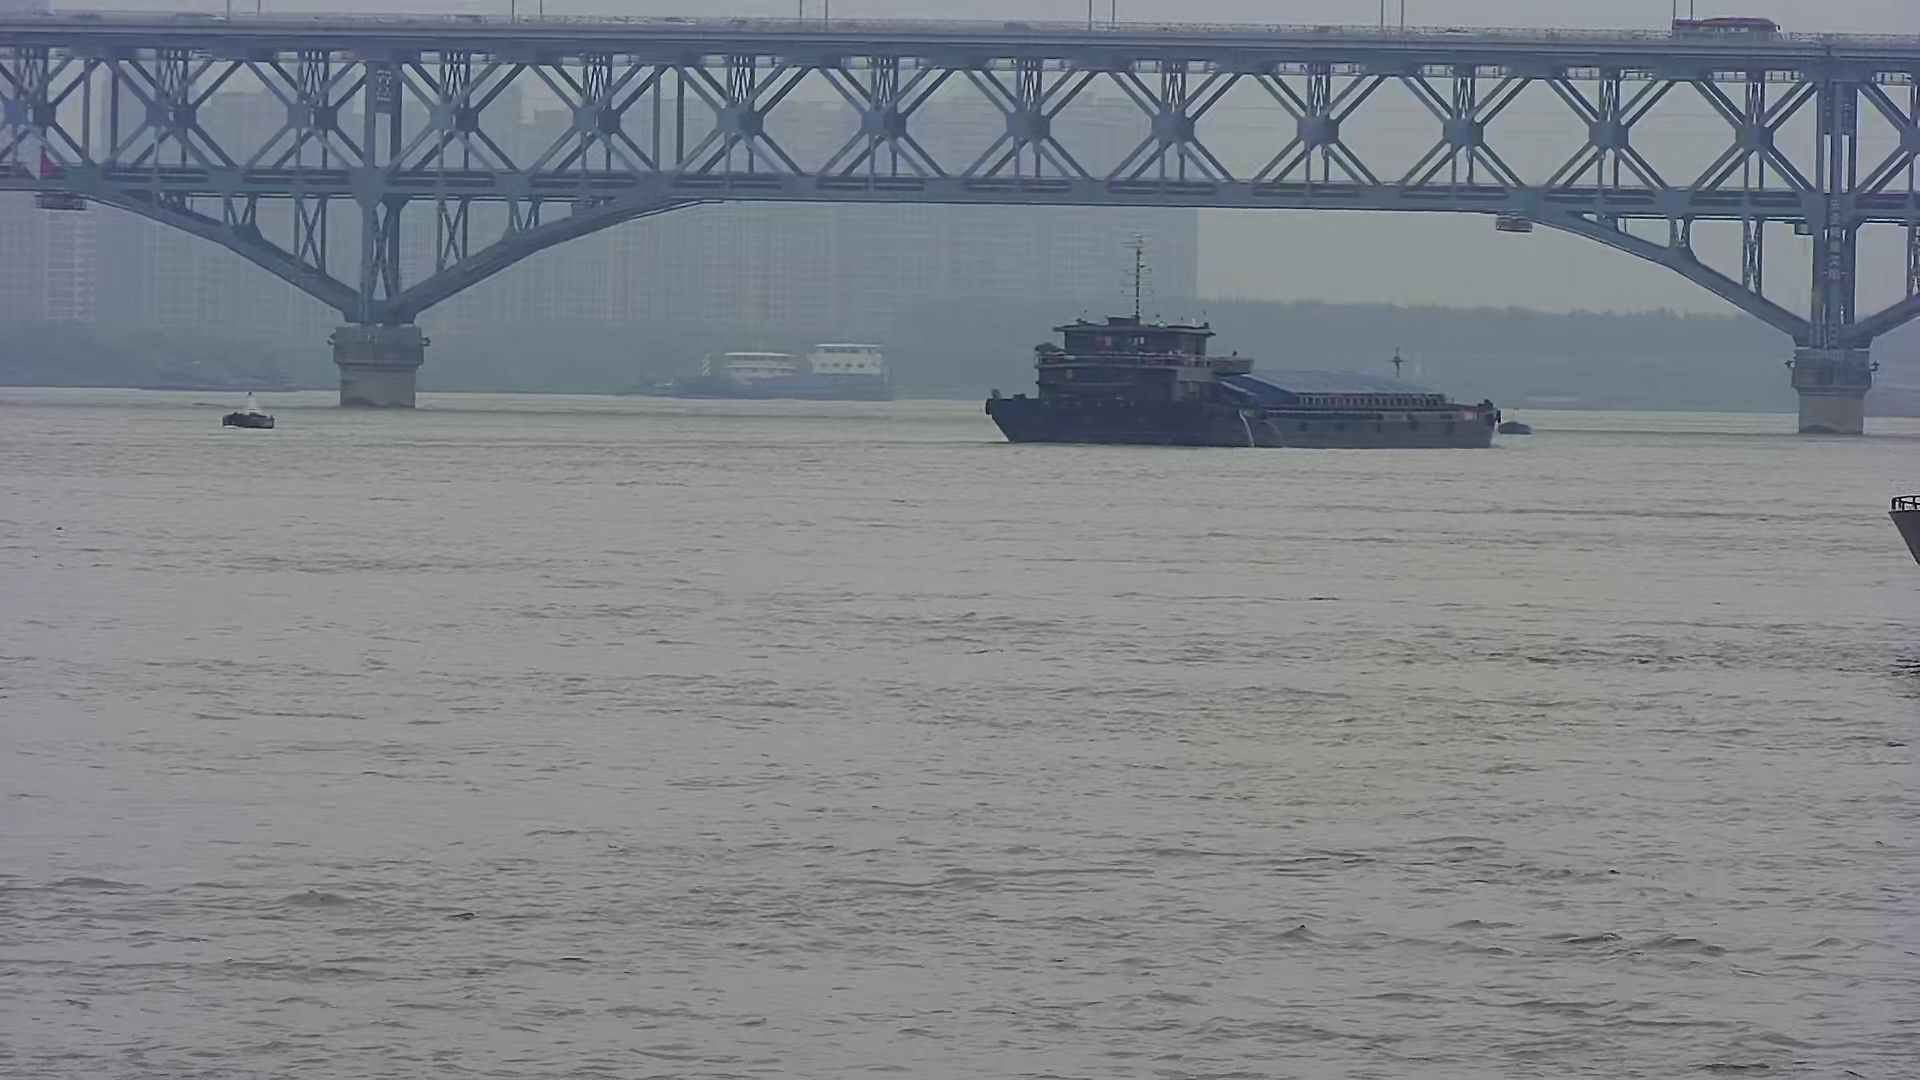boat: (212, 378, 287, 433), (1495, 411, 1539, 446)
bridge: (1, 1, 1916, 444)
ship: (975, 223, 1509, 469), (750, 334, 910, 409), (673, 342, 806, 400)
